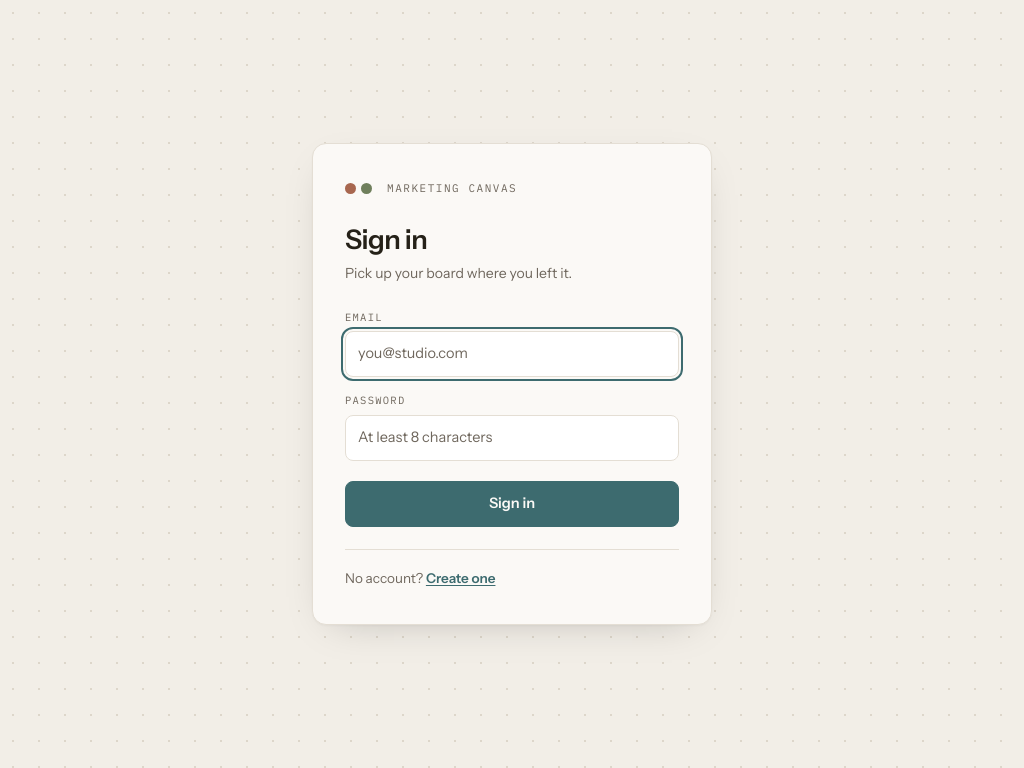
Test: a form-level error › goes away as soon as the person starts correcting the form
The width and height of the screenshot is (1024, 768).
Expected: the heading "Sign in" is shown, [345, 223, 427, 256]
Type "ada@example.com" into the field labelled "Email" at point(512, 354), box [345, 331, 679, 377]
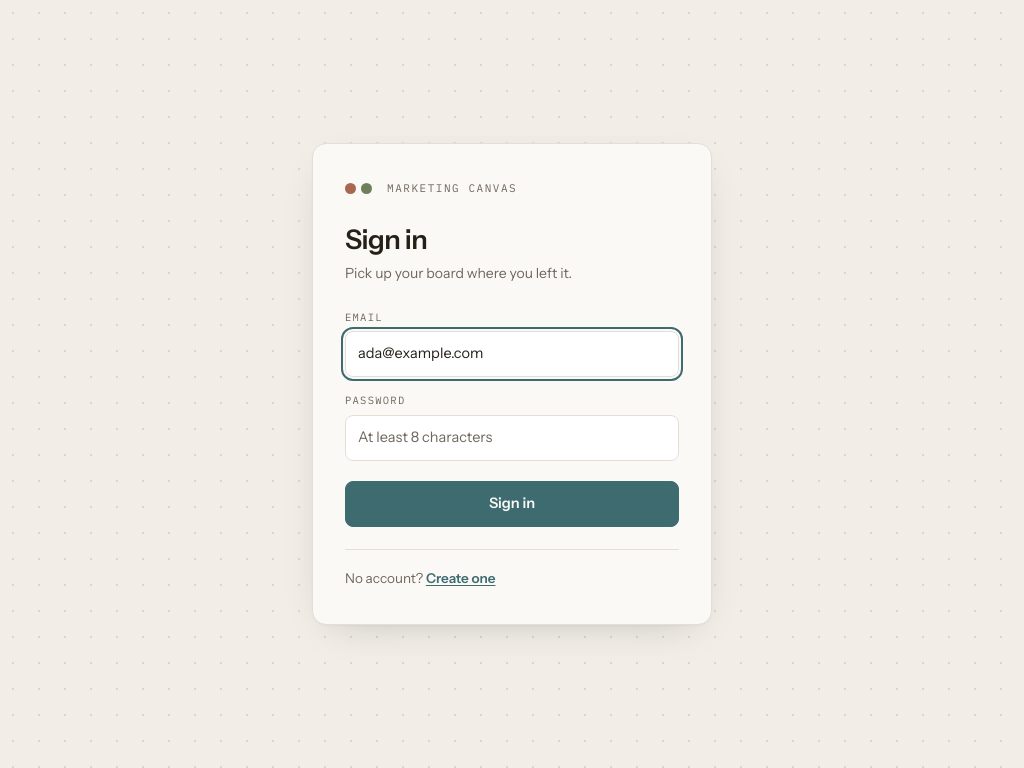
Type "wrong-password" into the password field labelled "Password" at point(512, 438), box [345, 415, 679, 461]
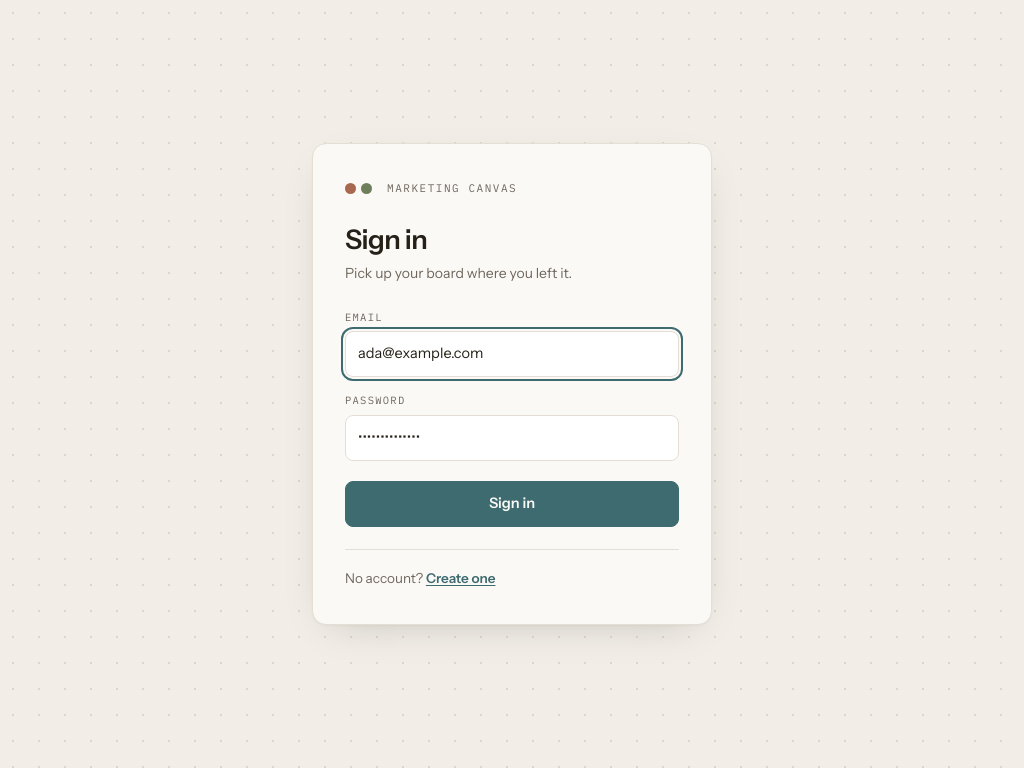
Click the button "Sign in" at point(512, 504), box [345, 480, 679, 526]
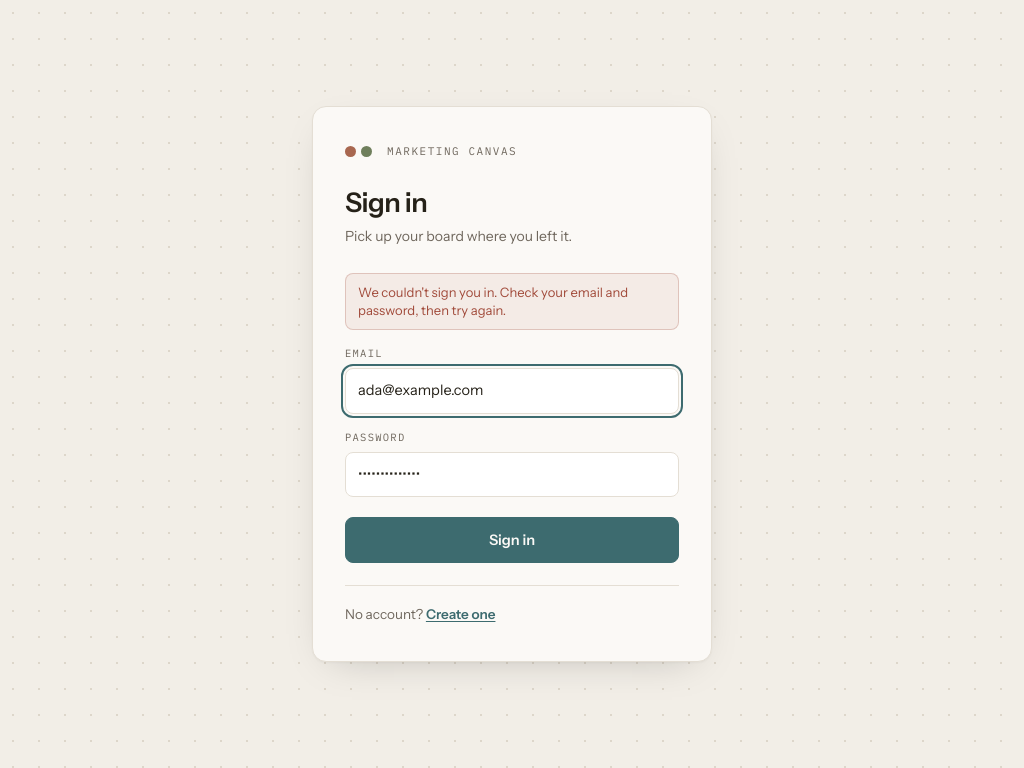
Result: the text "We couldn't sign you in. Check your email and password, then try again." is shown at [345, 273, 679, 330]
Type "wrong-password!" into the password field labelled "Password" at point(512, 474), box [345, 452, 679, 497]
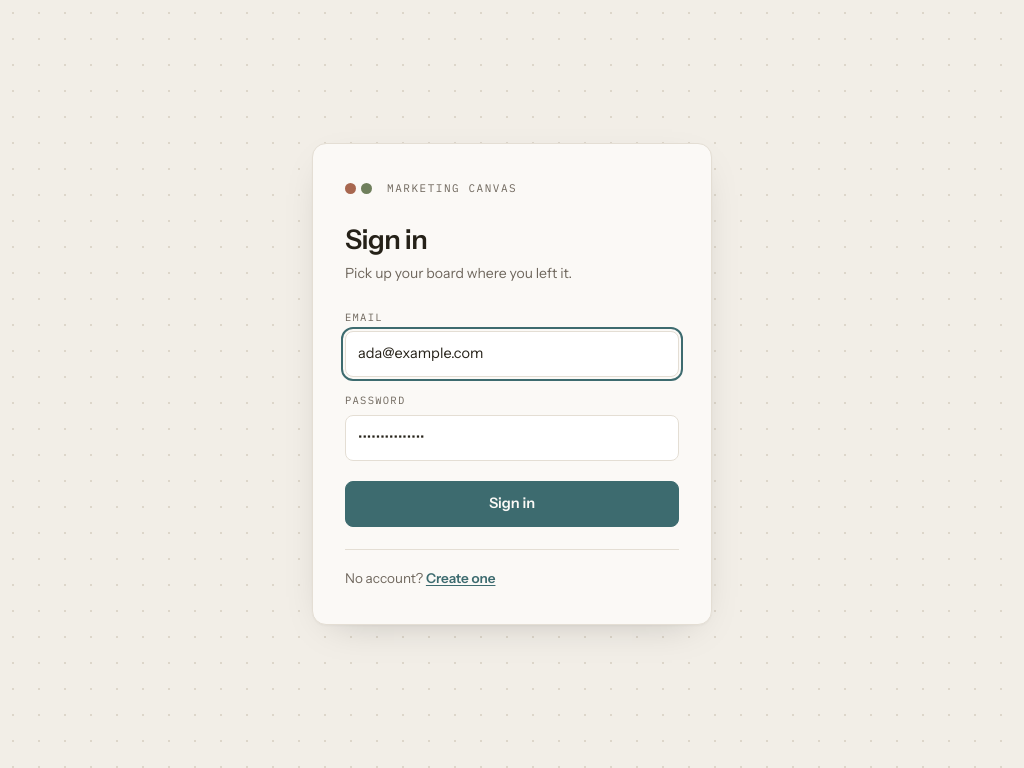
Result: the text "We couldn't sign you in" is gone
